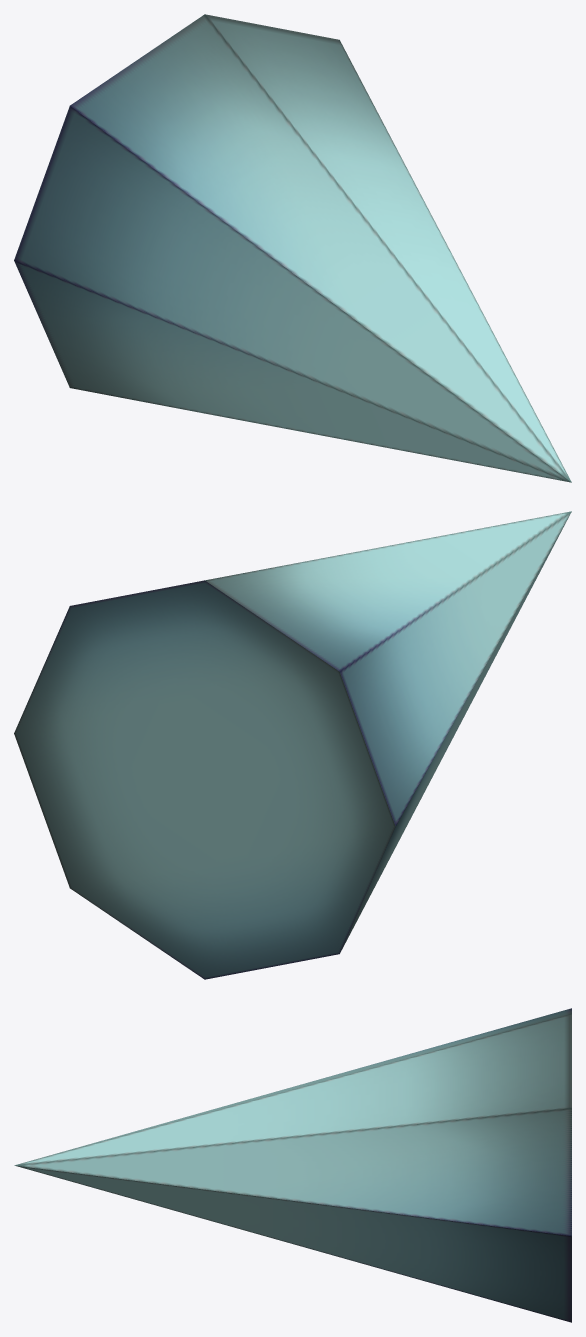
The model's file is Turret_Ship_1_Bullet.fbx.
The picture shows the model from 3 angles, top to bottom: view 1: azimuth 30°, elevation 25°; view 2: azimuth 150°, elevation 25°; view 3: azimuth 270°, elevation 25°; orthographic projection. The views are drawn at different scales.
Parts seen in each view (by area): view 1: Turret_Ship_1_Bullet; view 2: Turret_Ship_1_Bullet; view 3: Turret_Ship_1_Bullet.
Part boxes in pixels (<box>): Turret_Ship_1_Bullet: <box>14,14,571,482</box>; Turret_Ship_1_Bullet: <box>14,511,571,979</box>; Turret_Ship_1_Bullet: <box>14,1008,571,1322</box>.
Bounding box in the file's own units: 60 × 60 × 100.
Materials: 1 (1 with a texture image).
